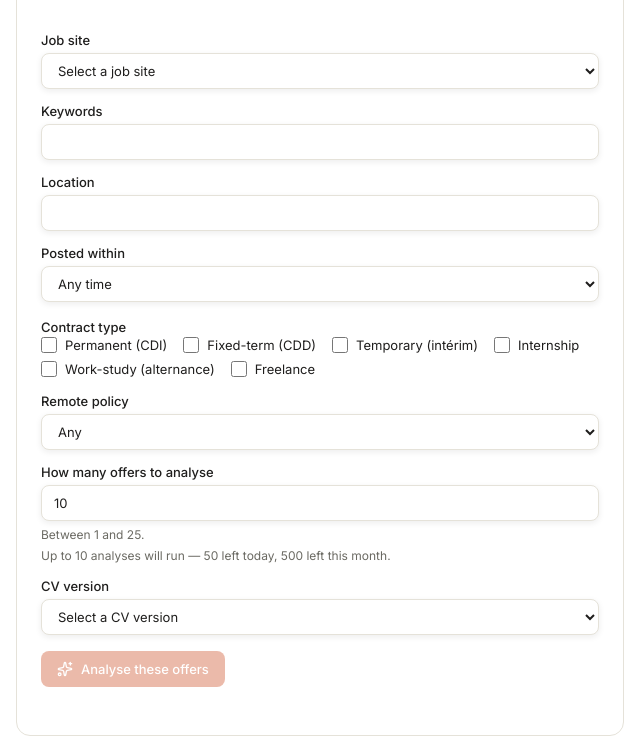
Test case: AnalyseSeveralOffersPage › marks the quota-skipped offers with a daily-limit note
(page scrolled)
Select "Default CV — Converted" in the dropdown labelled "CV version" at (320, 617), box [41, 599, 599, 635]
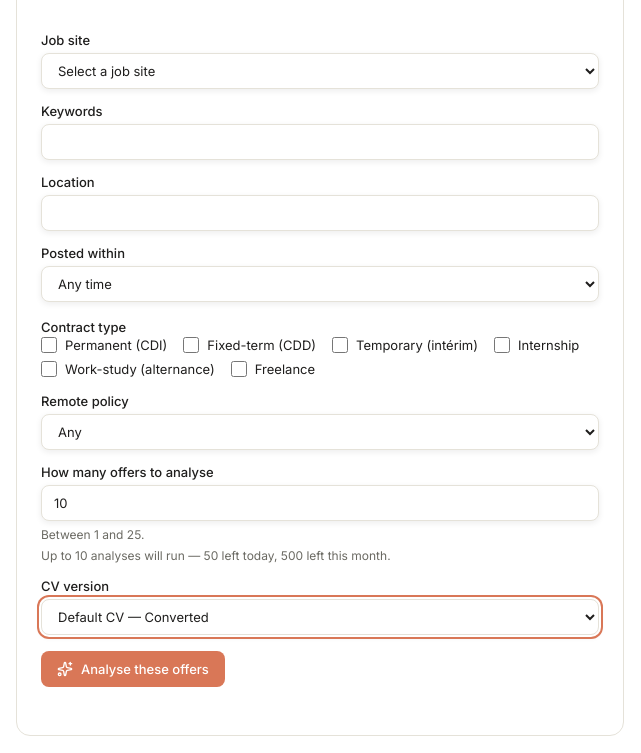
Select "France Travail — recommended" in the dropdown labelled "Job site" at (320, 71), box [41, 53, 599, 89]
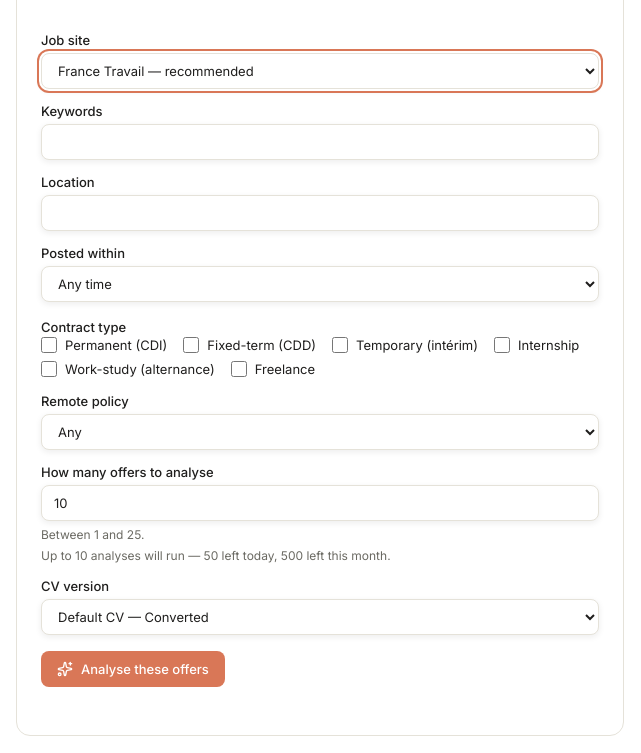
Click the button "Analyse these offers".
click(133, 669)  # box [41, 651, 225, 687]
(page scrolled)
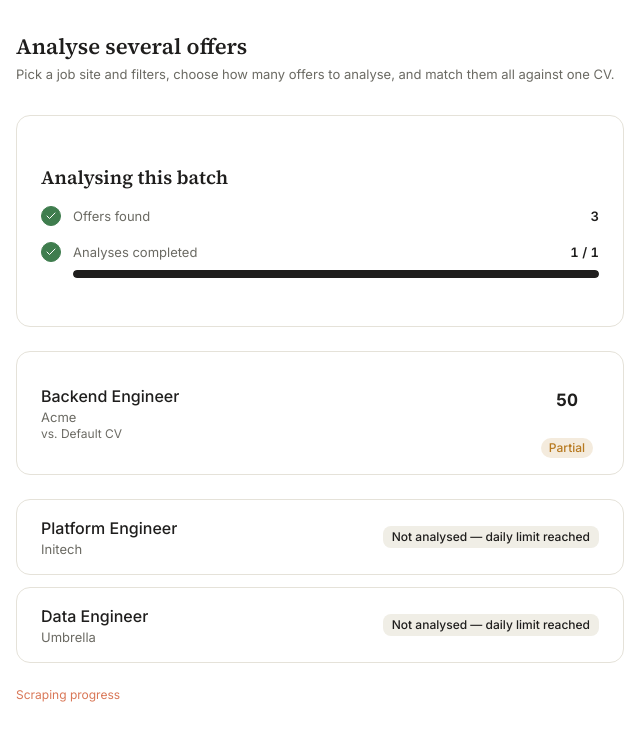
Expected: the text "Platform Engineer" is shown, [41, 516, 177, 540]
Expected: the text "Data Engineer" is shown, [41, 604, 148, 628]
Expected: the text "Not analysed — daily limit reached" is shown 2 times, [383, 526, 599, 548]; [383, 614, 599, 636]
